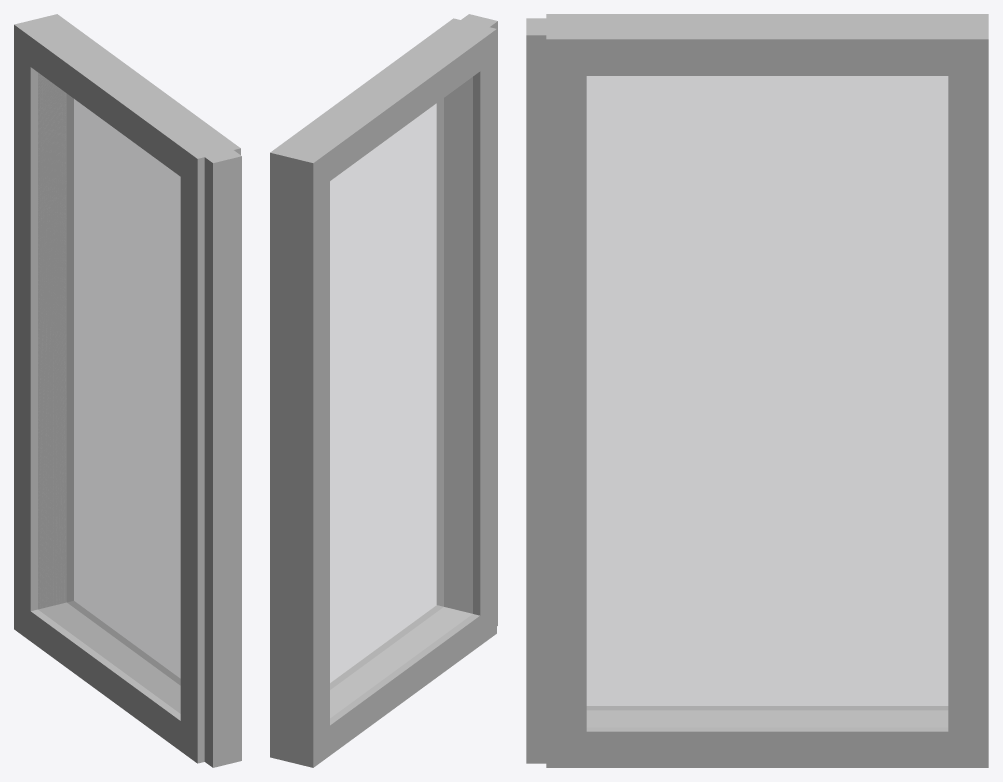
File: Door-Type-3-Pin.obj
3 views of the same model, side by side, from view 1: azimuth 30°, elevation 25°; view 2: azimuth 150°, elevation 25°; view 3: azimuth 270°, elevation 25° (orthographic). The views are drawn at different scales.
Parts seen in each view (by area): view 1: Door-Type-3-Pin; view 2: Door-Type-3-Pin; view 3: Door-Type-3-Pin.
Part boxes in pixels (x1,y1,x2,y2): Door-Type-3-Pin: [14, 14, 241, 767]; Door-Type-3-Pin: [270, 14, 497, 767]; Door-Type-3-Pin: [526, 14, 988, 767].
Size of the model in its own units: 0.3002 by 4 by 2.3.
